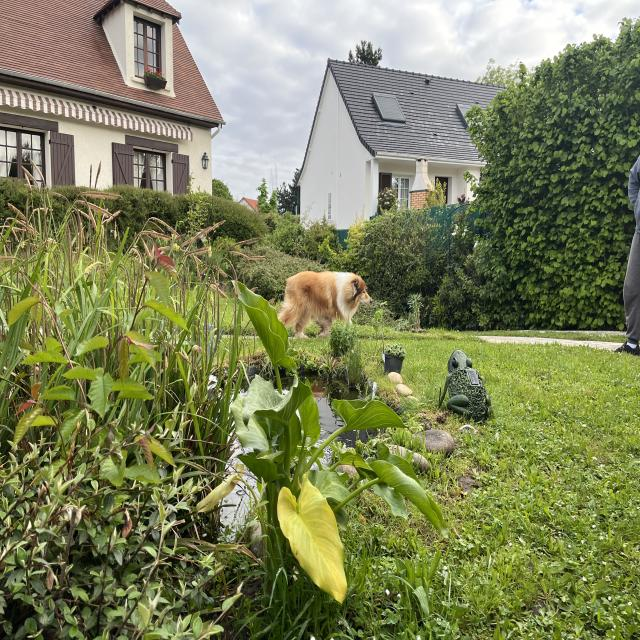Dog: (270, 267, 377, 351)
